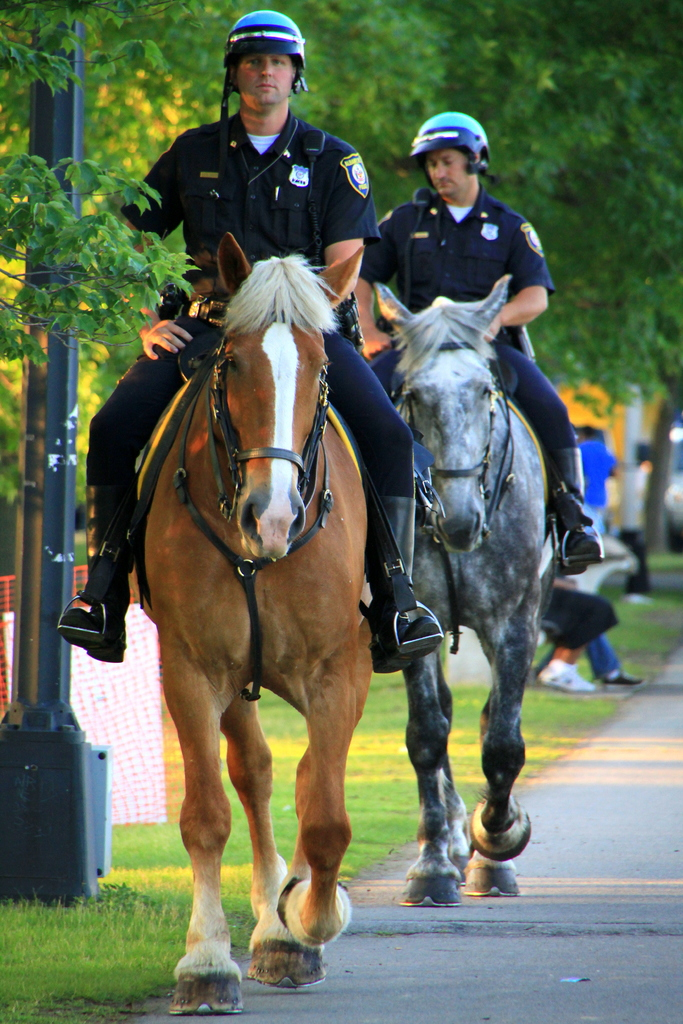horse: (119, 230, 379, 1018)
